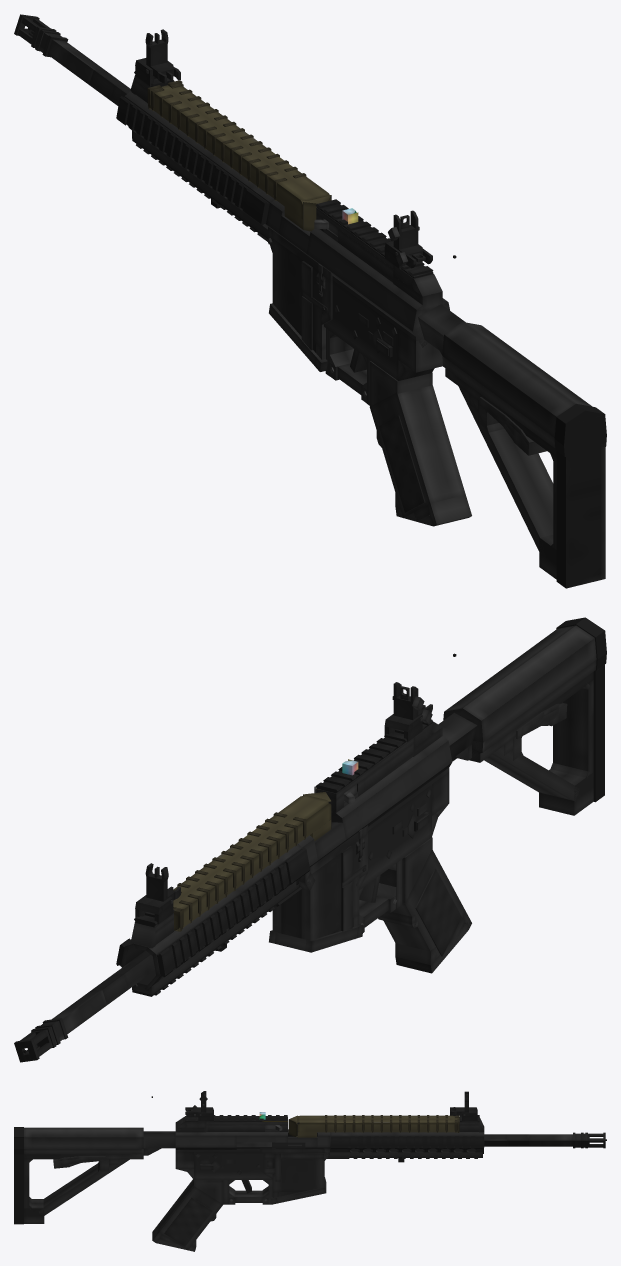
3 views of the same model, one above another, from view 1: azimuth 30°, elevation 25°; view 2: azimuth 150°, elevation 25°; view 3: azimuth 270°, elevation 25° (orthographic). The views are drawn at different scales.
Visible parts, largest first — view 1: gun, stock, magazine1, bone12, handguard, barrel, kolajnice, bone2, muzzledef, rearsight; view 2: gun, stock, magazine1, handguard, bone12, barrel, kolajnice, muzzledef, bone2, rearsight, frontsight845, sightbase4 (+1 smaller); view 3: gun, stock, magazine1, handguard, bone6, barrel, kolajnice, bone2, bone5, muzzledef, bolt.
Boxes of the visible parts, x1,y1,x2,y2 form: gun: (267, 203, 471, 526); stock: (418, 304, 606, 588); magazine1: (147, 80, 331, 231); bone12: (116, 96, 269, 225); handguard: (124, 71, 274, 241); barrel: (47, 39, 130, 105); kolajnice: (315, 199, 433, 278); bone2: (271, 200, 447, 311); muzzledef: (14, 14, 68, 57); rearsight: (388, 210, 419, 250); gun: (269, 722, 471, 973); stock: (438, 617, 606, 815); magazine1: (173, 792, 331, 931); handguard: (120, 844, 302, 996); bone12: (157, 848, 309, 977); barrel: (51, 951, 154, 1033); kolajnice: (315, 719, 433, 793); muzzledef: (14, 1018, 68, 1062); bone2: (298, 736, 448, 847); rearsight: (392, 682, 424, 719); frontsight845: (145, 863, 168, 901); sightbase4: (135, 895, 173, 924); gun: (152, 1116, 329, 1251); stock: (14, 1127, 175, 1224); magazine1: (288, 1115, 459, 1137); handguard: (327, 1115, 484, 1158); bone6: (331, 1136, 483, 1148); barrel: (484, 1134, 572, 1146); kolajnice: (185, 1115, 287, 1121); bone2: (175, 1132, 329, 1135); bone5: (330, 1147, 483, 1153); muzzledef: (573, 1132, 605, 1148); bolt: (236, 1142, 275, 1148).
Bounding box in the file's own units: 30.29 × 172 × 600.
Materials: 1 (1 with a texture image).
